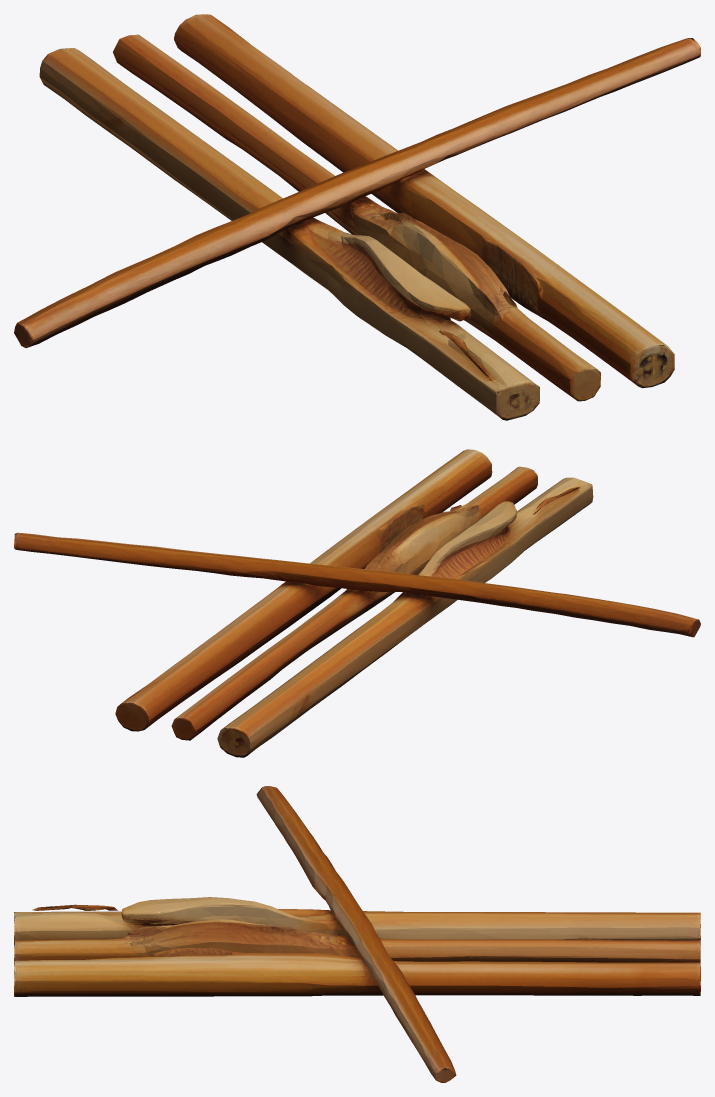
Rendered from wooden-chopsticks-dune.jpeg.glb.
3 views of the same model, one above another, from view 1: azimuth 30°, elevation 25°; view 2: azimuth 150°, elevation 25°; view 3: azimuth 270°, elevation 25° (orthographic). The views are drawn at different scales.
Parts seen in each view (by area): view 1: world; view 2: world; view 3: world.
Part boxes in pixels (x1,y1,x2,y2): world: (14,14,700,420); world: (14,449,700,757); world: (14,786,700,1082).
Bounding box in the file's own units: 1 × 0.0811 × 1.
Materials: 1 (1 with a texture image).
